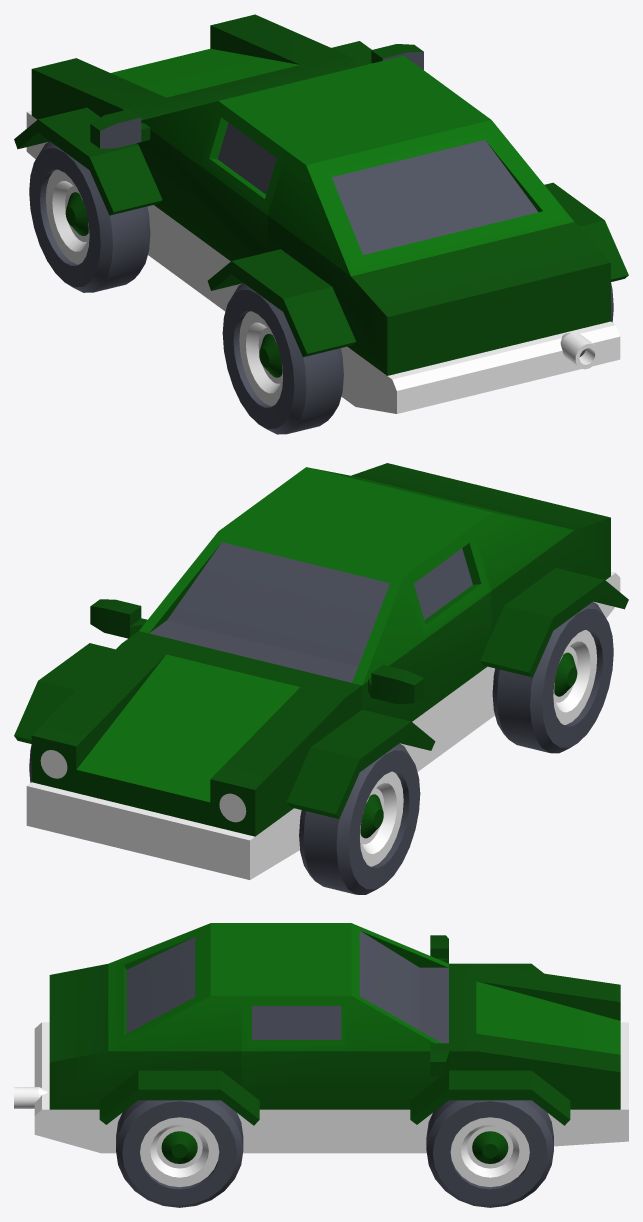
The model's file is Traffic Old Green.fbx.
3 renders of one model, top to bottom at view 1: azimuth 30°, elevation 25°; view 2: azimuth 150°, elevation 25°; view 3: azimuth 270°, elevation 25°, orthographic. The views are drawn at different scales.
Visible parts, largest first — view 1: trunk_square_9, windshield_sports_3, hood_square_5, wheel_colored_29, wheel_colored_28, detail_fenderSquare_33, detail_fenderSquare_30, detail_fenderSquare_37, detail_mirror_20, detail_exhaust_38, detail_mirror_21; view 2: hood_square_5, windshield_sports_3, trunk_square_9, wheel_colored_29, wheel_colored_28, detail_fenderSquare_33, detail_fenderSquare_30, detail_fenderSquare_35, detail_mirror_20, detail_mirror_21; view 3: windshield_sports_3, trunk_square_9, hood_square_5, wheel_colored_34, wheel_colored_36, detail_fenderSquare_37, detail_fenderSquare_35, detail_mirror_21, detail_exhaust_38, detail_mirror_20.
Boxes of the visible parts, left/top/right/bottom form: trunk_square_9: left=267, top=106, right=620, bottom=413; windshield_sports_3: left=138, top=56, right=471, bottom=311; hood_square_5: left=26, top=14, right=360, bottom=159; wheel_colored_29: left=222, top=283, right=343, bottom=434; wheel_colored_28: left=29, top=141, right=150, bottom=292; detail_fenderSquare_33: left=207, top=249, right=356, bottom=357; detail_fenderSquare_30: left=14, top=107, right=162, bottom=215; detail_fenderSquare_37: left=544, top=182, right=628, bottom=281; detail_mirror_20: left=90, top=109, right=150, bottom=148; detail_exhaust_38: left=560, top=332, right=599, bottom=369; detail_mirror_21: left=371, top=44, right=423, bottom=69; hood_square_5: left=26, top=631, right=362, bottom=879; windshield_sports_3: left=139, top=481, right=491, bottom=771; trunk_square_9: left=287, top=463, right=620, bottom=717; wheel_colored_29: left=492, top=602, right=613, bottom=753; wheel_colored_28: left=299, top=743, right=420, bottom=894; detail_fenderSquare_33: left=480, top=568, right=628, bottom=677; detail_fenderSquare_30: left=286, top=709, right=435, bottom=818; detail_fenderSquare_35: left=14, top=643, right=115, bottom=743; detail_mirror_20: left=368, top=665, right=423, bottom=704; detail_mirror_21: left=90, top=599, right=147, bottom=638; windshield_sports_3: left=241, top=923, right=448, bottom=1153; trunk_square_9: left=34, top=923, right=241, bottom=1153; hood_square_5: left=449, top=963, right=628, bottom=1146; wheel_colored_34: left=426, top=1100, right=553, bottom=1207; wheel_colored_36: left=116, top=1100, right=243, bottom=1207; detail_fenderSquare_37: left=99, top=1070, right=259, bottom=1125; detail_fenderSquare_35: left=410, top=1070, right=570, bottom=1125; detail_mirror_21: left=430, top=1043, right=448, bottom=1076; detail_exhaust_38: left=14, top=1087, right=47, bottom=1108; detail_mirror_20: left=430, top=935, right=448, bottom=963.
Size of the model in its own units: 14.5 by 10.08 by 29.7.
